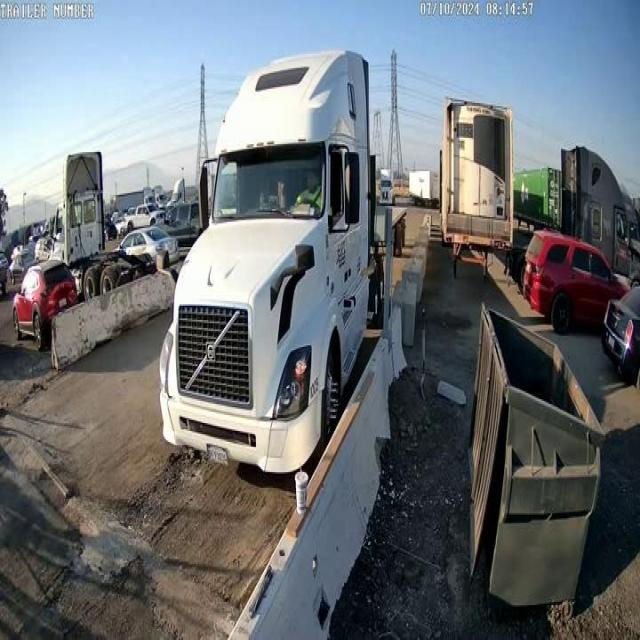TRUCK_OUT: (158, 48, 375, 478)
